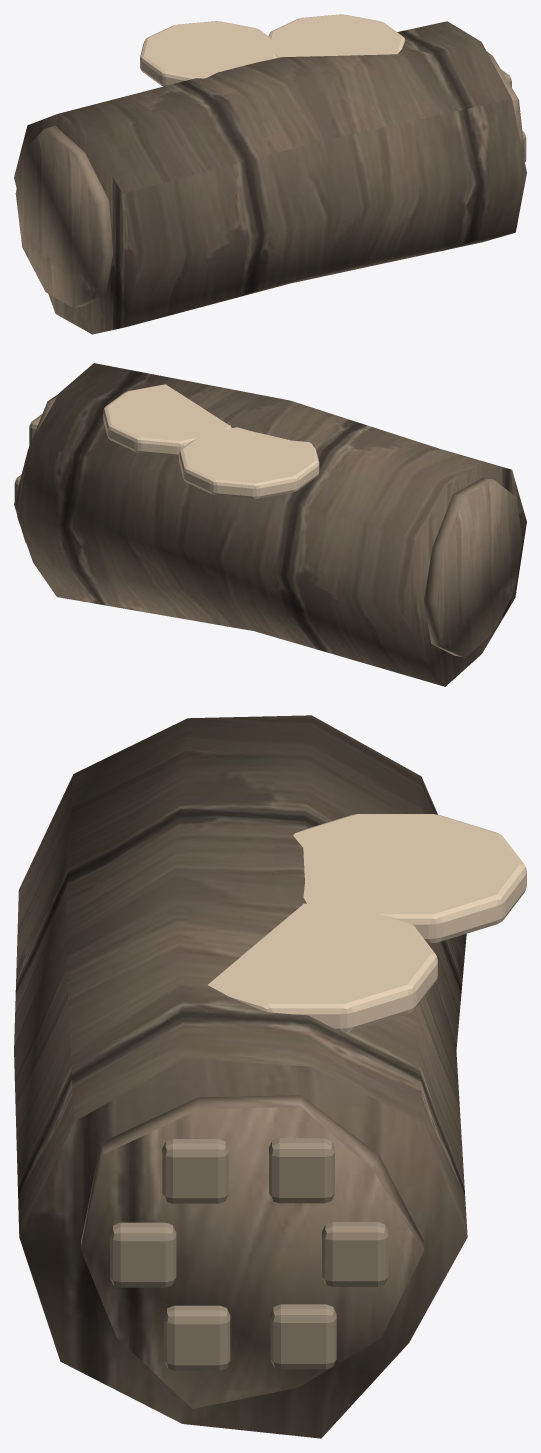
Rendered from mushroom_wood.glb.
The picture shows the model from 3 angles, top to bottom: view 1: azimuth 30°, elevation 25°; view 2: azimuth 150°, elevation 25°; view 3: azimuth 270°, elevation 25°; orthographic projection. The views are drawn at different scales.
Parts seen in each view (by area): view 1: model; view 2: model; view 3: model.
Part boxes in pixels (x1,y1,x2,y2): model: (14, 14, 526, 334); model: (14, 363, 526, 686); model: (14, 715, 526, 1438).
Size of the model in its own units: 0.343 by 0.164 by 0.1934.
4 materials, 2 textured.
